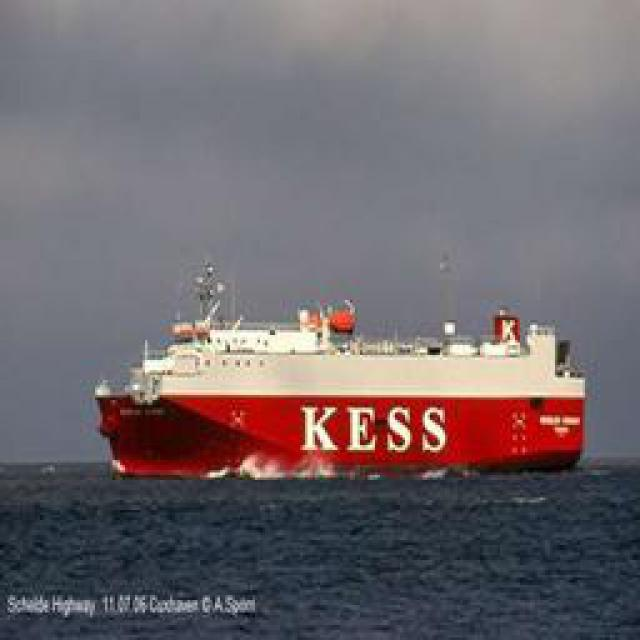Ship: (86, 257, 599, 485)
